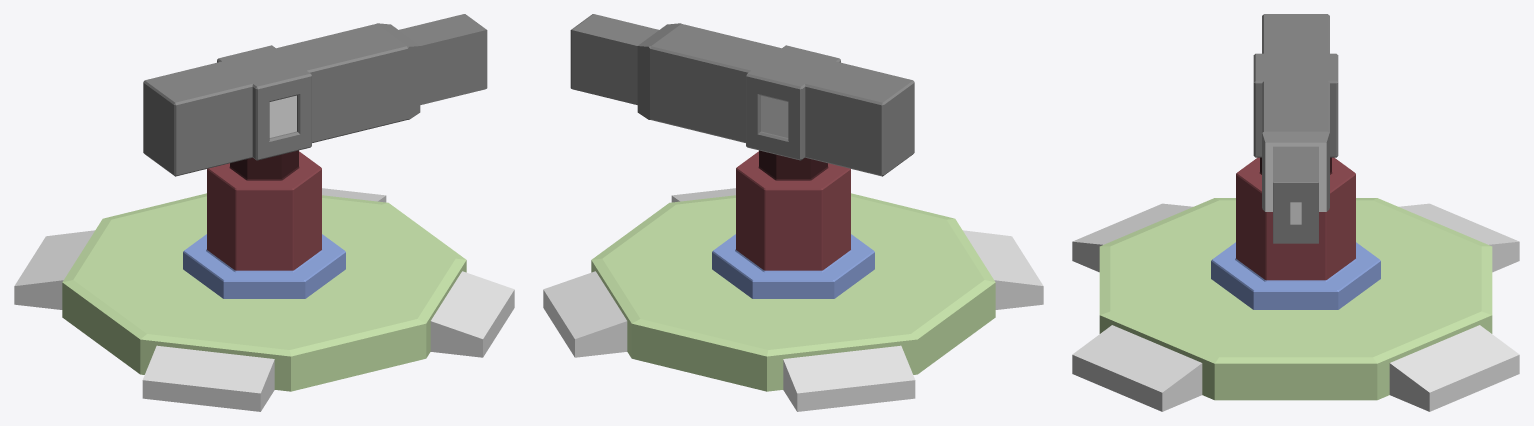
The model's file is Railgun_TD_123.fbx.
3 views of the same model, side by side, from view 1: azimuth 30°, elevation 25°; view 2: azimuth 150°, elevation 25°; view 3: azimuth 270°, elevation 25° (orthographic). The views are drawn at different scales.
Visible parts, largest first — view 1: Cylinder, Cube.004; view 2: Cylinder, Cube.004; view 3: Cylinder, Cube.004.
Part boxes in pixels (box(x1,y1,x2,y2)): Cylinder: box(14, 150, 514, 411); Cube.004: box(143, 14, 487, 176); Cylinder: box(543, 150, 1043, 411); Cube.004: box(570, 14, 914, 176); Cylinder: box(1072, 157, 1519, 411); Cube.004: box(1253, 14, 1338, 243).
Bounding box in the file's own units: 1127 × 650 × 1054.
